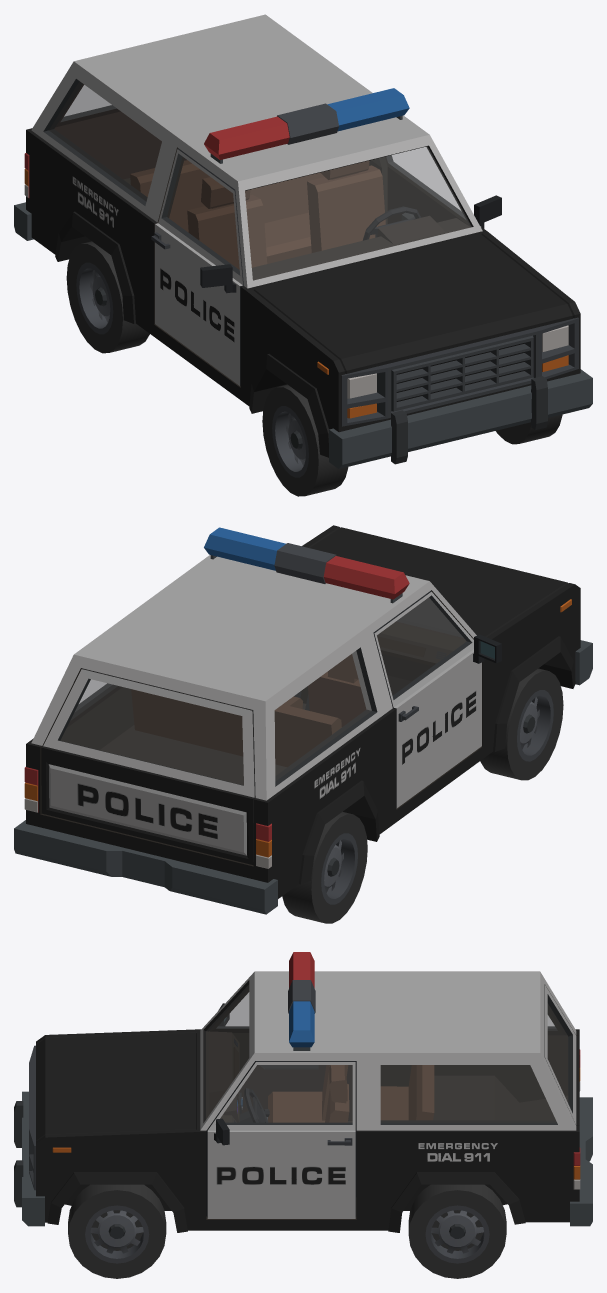
Rendered from 12_SUV_POLICE_01.glb.
The picture shows the model from 3 angles, top to bottom: view 1: azimuth 30°, elevation 25°; view 2: azimuth 150°, elevation 25°; view 3: azimuth 270°, elevation 25°; orthographic projection. The views are drawn at different scales.
Parts seen in each view (by area): view 1: SUV_POLICE_01, WINDOWS.003, INTERIOR.005, DOOR R.005, WHEEL_1R.001, WHEEL_2R.001, DOOR B.001, WIN R.001, DOOR L.005, WIN.L.002, WHEEL_1L.001, WIN_B; view 2: SUV_POLICE_01, DOOR B.001, INTERIOR.005, WIN_B, DOOR R.005, WINDOWS.003, WHEEL_2R.001, WHEEL_1R.001, WIN R.001; view 3: SUV_POLICE_01, DOOR L.005, WINDOWS.003, INTERIOR.005, WHEEL_2L.001, WHEEL_1L.001, WIN.L.002, DOOR R.005, DOOR B.001, WIN_B, WIN R.001.
Part boxes in pixels (box(x1,y1,x2,y2)): SUV_POLICE_01: box(14, 14, 592, 468); WINDOWS.003: box(49, 82, 471, 280); INTERIOR.005: box(130, 160, 470, 280); DOOR R.005: box(151, 148, 243, 385); WHEEL_1R.001: box(262, 384, 348, 496); WHEEL_2R.001: box(66, 241, 149, 353); DOOR B.001: box(54, 84, 186, 179); WIN R.001: box(167, 157, 239, 269); DOOR L.005: box(385, 148, 501, 228); WIN.L.002: box(387, 147, 465, 218); WHEEL_1L.001: box(496, 414, 562, 444); WIN_B: box(61, 85, 115, 121); SUV_POLICE_01: box(14, 525, 592, 914); DOOR B.001: box(41, 668, 255, 865); INTERIOR.005: box(131, 621, 466, 767); WIN_B: box(61, 679, 243, 784); DOOR R.005: box(373, 591, 501, 808); WINDOWS.003: box(75, 598, 461, 780); WHEEL_2R.001: box(282, 811, 367, 923); WHEEL_1R.001: box(480, 668, 563, 780); WIN R.001: box(377, 598, 466, 694); SUV_POLICE_01: box(14, 952, 592, 1232); DOOR L.005: box(206, 1061, 356, 1218); WINDOWS.003: box(206, 985, 556, 1122); INTERIOR.005: box(206, 1031, 434, 1122); WHEEL_2L.001: box(408, 1184, 506, 1278); WHEEL_1L.001: box(68, 1184, 166, 1278); WIN.L.002: box(221, 1065, 352, 1122); DOOR R.005: box(209, 987, 352, 1120); DOOR B.001: box(544, 985, 579, 1125); WIN_B: box(548, 1004, 567, 1101); WIN R.001: box(217, 993, 248, 1027).
Size of the model in its own units: 2.29 by 1.98 by 4.4.
Materials: 3 (3 with a texture image).
